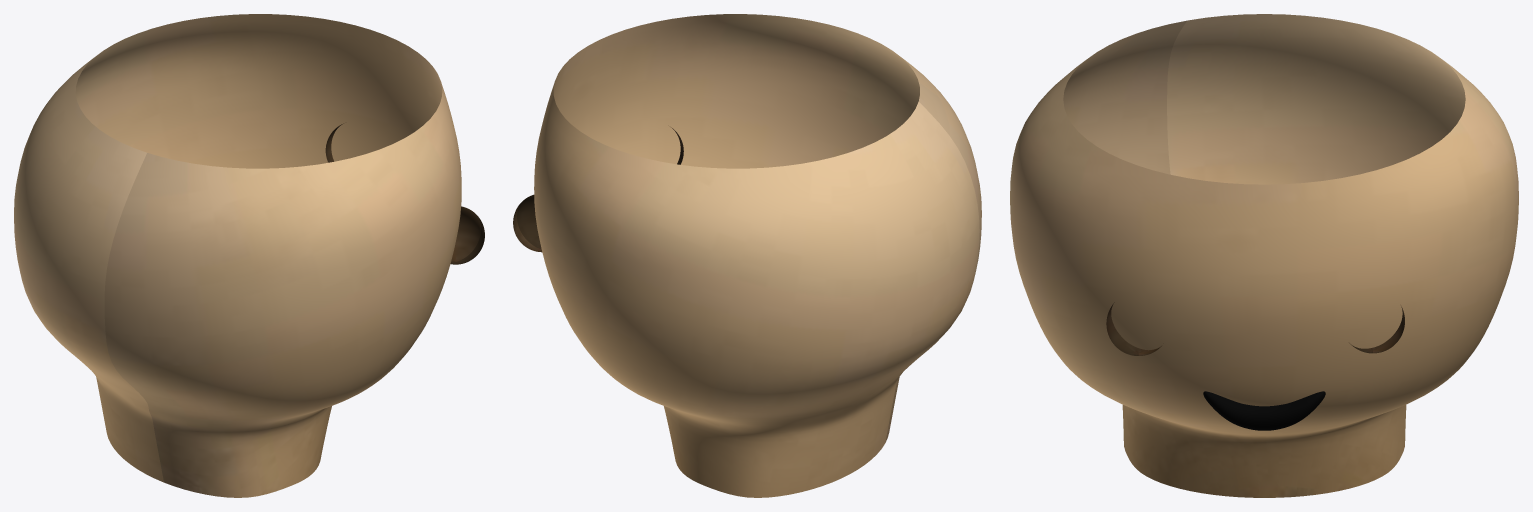
File: Playmobil_Head.fbx
3 views of the same model, side by side, from view 1: azimuth 30°, elevation 25°; view 2: azimuth 150°, elevation 25°; view 3: azimuth 270°, elevation 25° (orthographic). The views are drawn at different scales.
Visible parts, largest first — view 1: Head; view 2: Head; view 3: Head.
Boxes of the visible parts, x1,y1,x2,y2 form: Head: (14,14,484,497); Head: (513,14,981,497); Head: (1010,14,1518,497).
Bounding box in the file's own units: 78.45 × 66.98 × 81.96.
